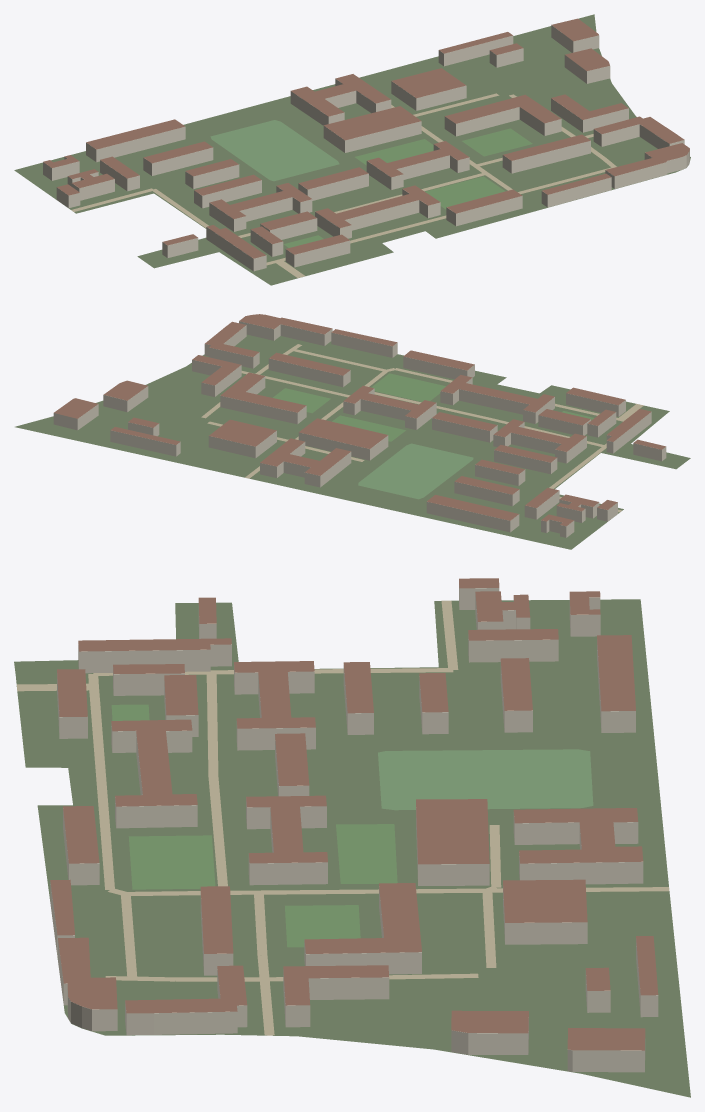
3 views of the same model, one above another, from view 1: azimuth 30°, elevation 25°; view 2: azimuth 150°, elevation 25°; view 3: azimuth 270°, elevation 25° (orthographic). The views are drawn at different scales.
Visible parts, largest first — view 1: campus-ground, buildings, roofs, environment (×3); view 2: campus-ground, buildings, roofs, environment (×3); view 3: campus-ground, roofs, buildings, environment (×3).
Boxes of the visible parts, bbox=[...] form: campus-ground: bbox=[14, 14, 690, 285]; buildings: bbox=[43, 25, 689, 271]; roofs: bbox=[43, 18, 689, 258]; environment (×3): bbox=[71, 93, 616, 277]; campus-ground: bbox=[15, 334, 690, 549]; buildings: bbox=[53, 321, 666, 537]; roofs: bbox=[54, 314, 665, 526]; environment (×3): bbox=[201, 344, 643, 512]; campus-ground: bbox=[14, 599, 690, 1097]; roofs: bbox=[50, 578, 658, 1050]; buildings: bbox=[50, 585, 658, 1072]; environment (×3): bbox=[16, 600, 669, 1035].
Bounding box in the file's own units: 591 × 12.25 × 339.
